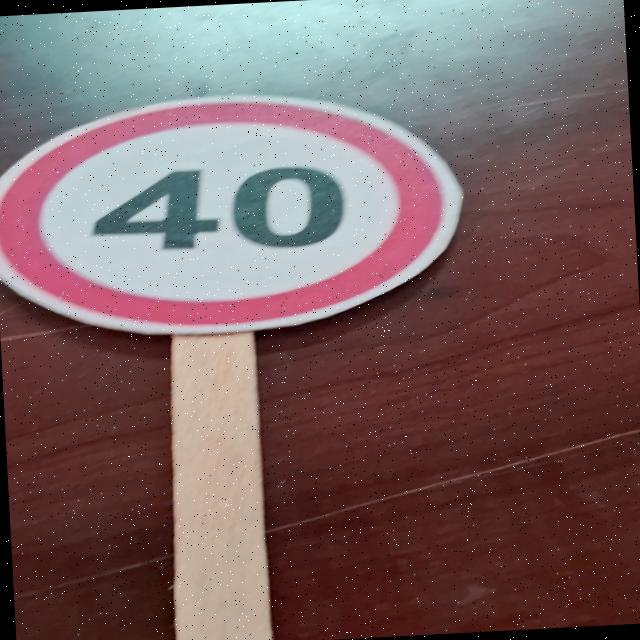Speed40: (0, 78, 468, 350)
